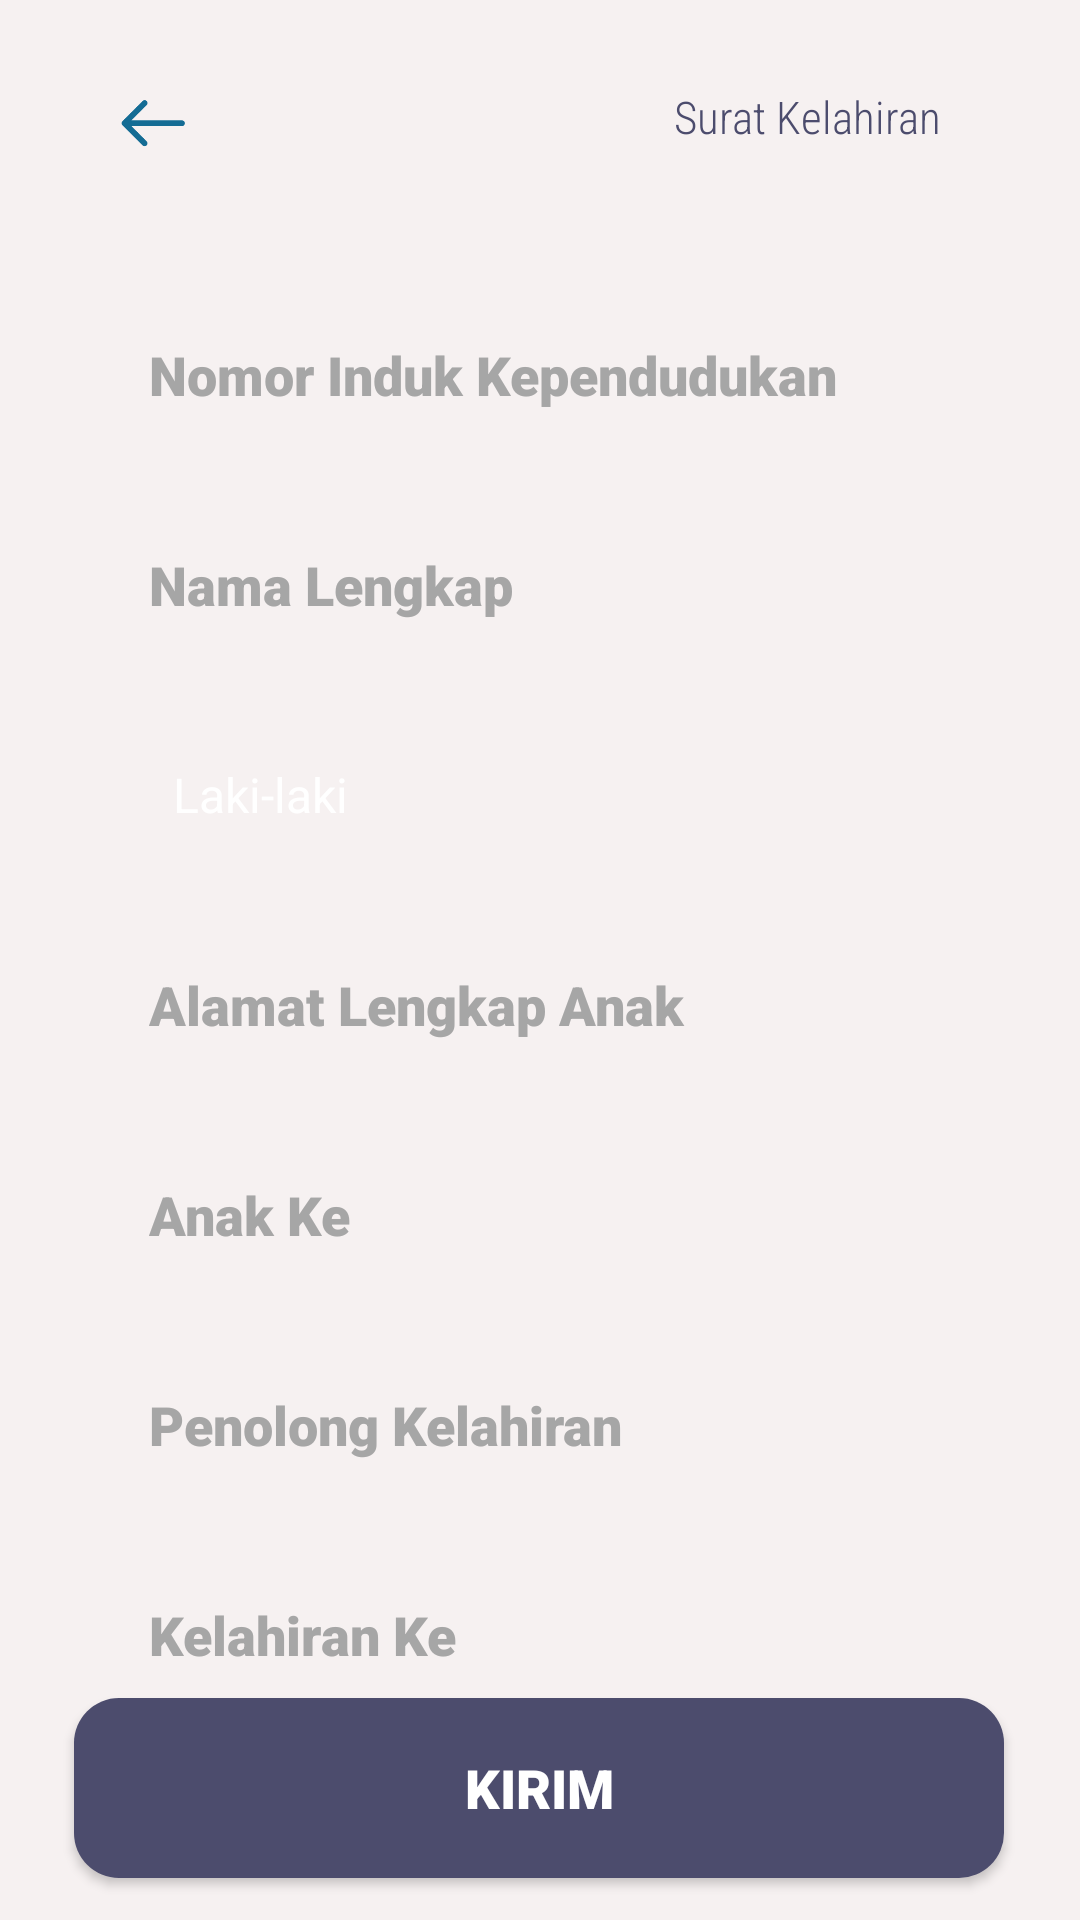

Point at icon controls on the screen. Image size 1080px x 1920px, points as [x,y].
back arrow: [153,123]
